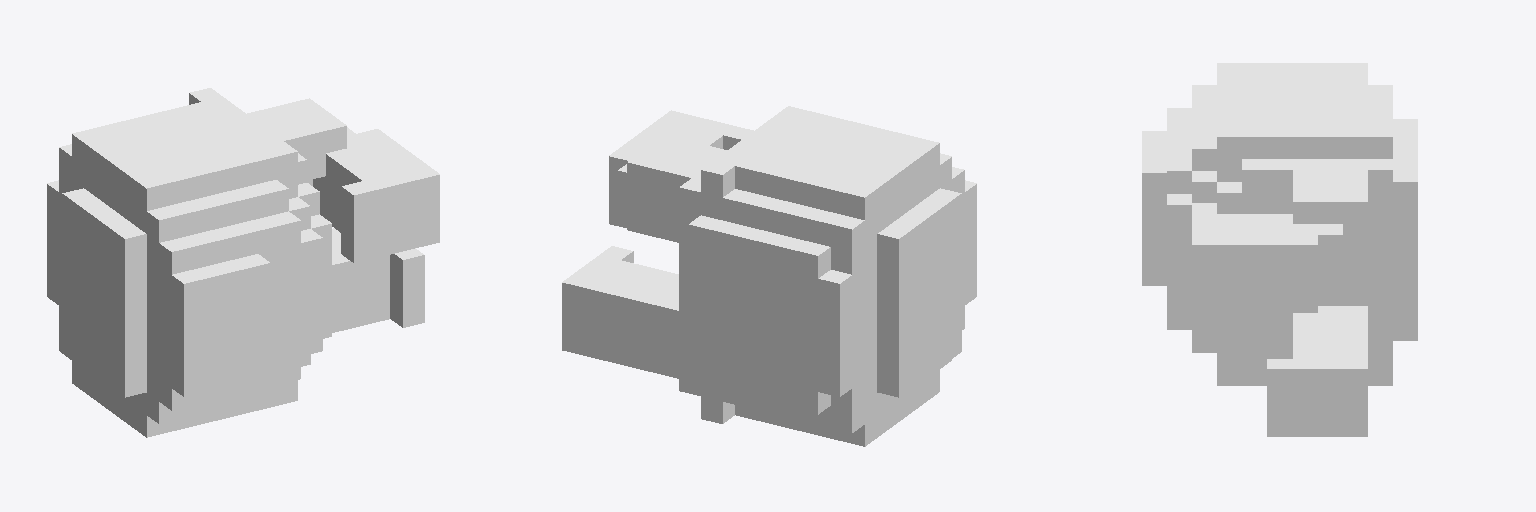
File: goodnight-moon-8-asleep-head1.obj
The picture shows the model from 3 angles: view 1: azimuth 30°, elevation 25°; view 2: azimuth 150°, elevation 25°; view 3: azimuth 270°, elevation 25°; orthographic projection.
Parts seen in each view (by area): view 1: asleep-head1; view 2: asleep-head1; view 3: asleep-head1.
Boxes of the visible parts, x1=… form: asleep-head1: x1=47, y1=88, x2=439, y2=437; asleep-head1: x1=562, y1=106, x2=976, y2=446; asleep-head1: x1=1142, y1=63, x2=1417, y2=436.
Bounding box in the file's own units: 1.5 × 1.1 × 1.1.